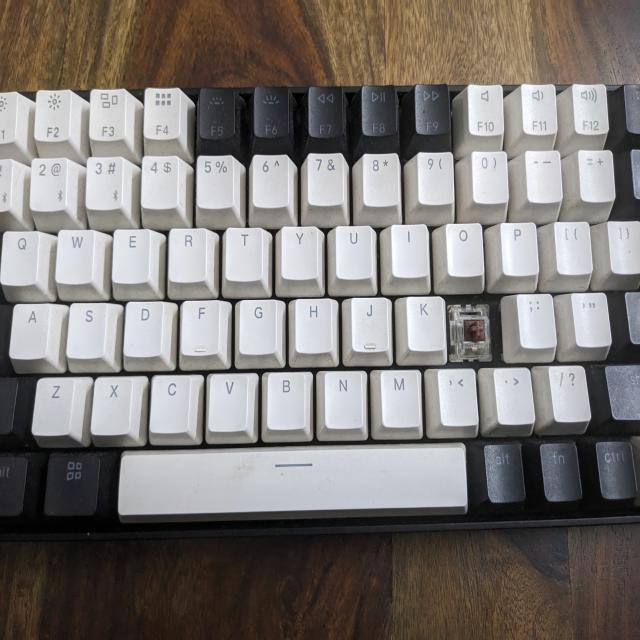C: (446, 302, 503, 360)
